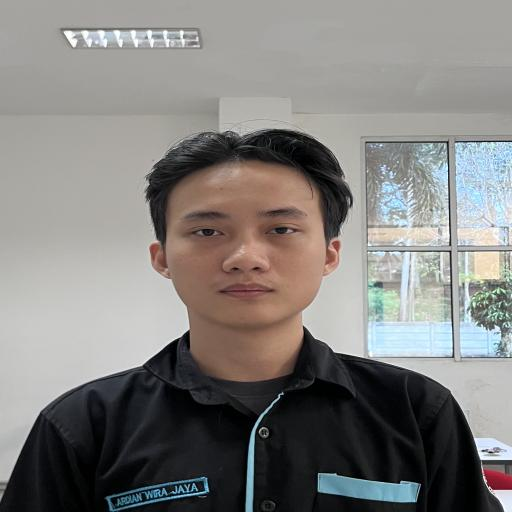wajah: (39, 87, 426, 409)
